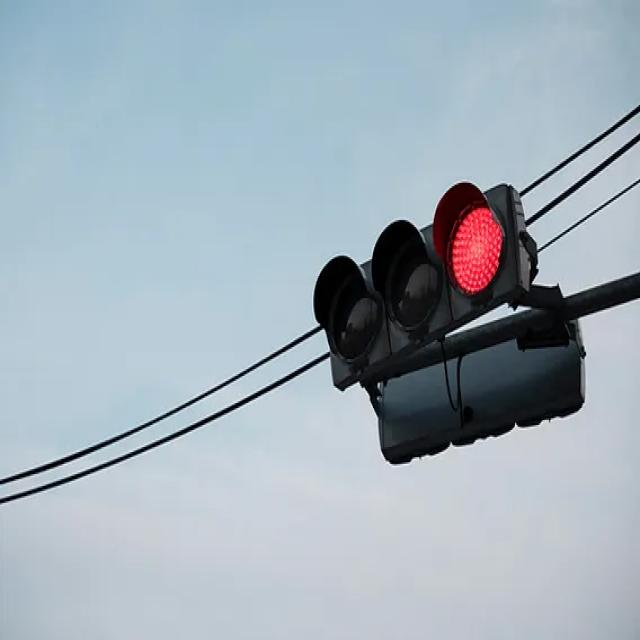Merah: (447, 202, 504, 292)
